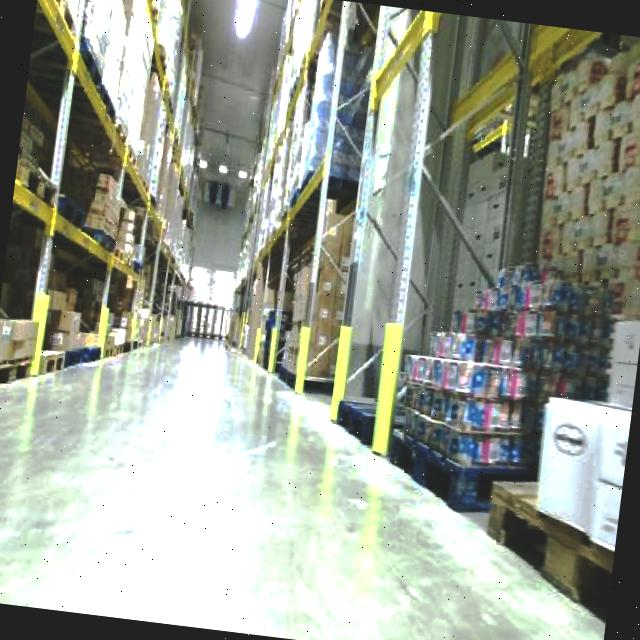ground: (0, 307, 633, 640)
pallet: (191, 0, 640, 640), (383, 246, 622, 527), (470, 245, 640, 640), (468, 471, 620, 640), (275, 190, 357, 394)
